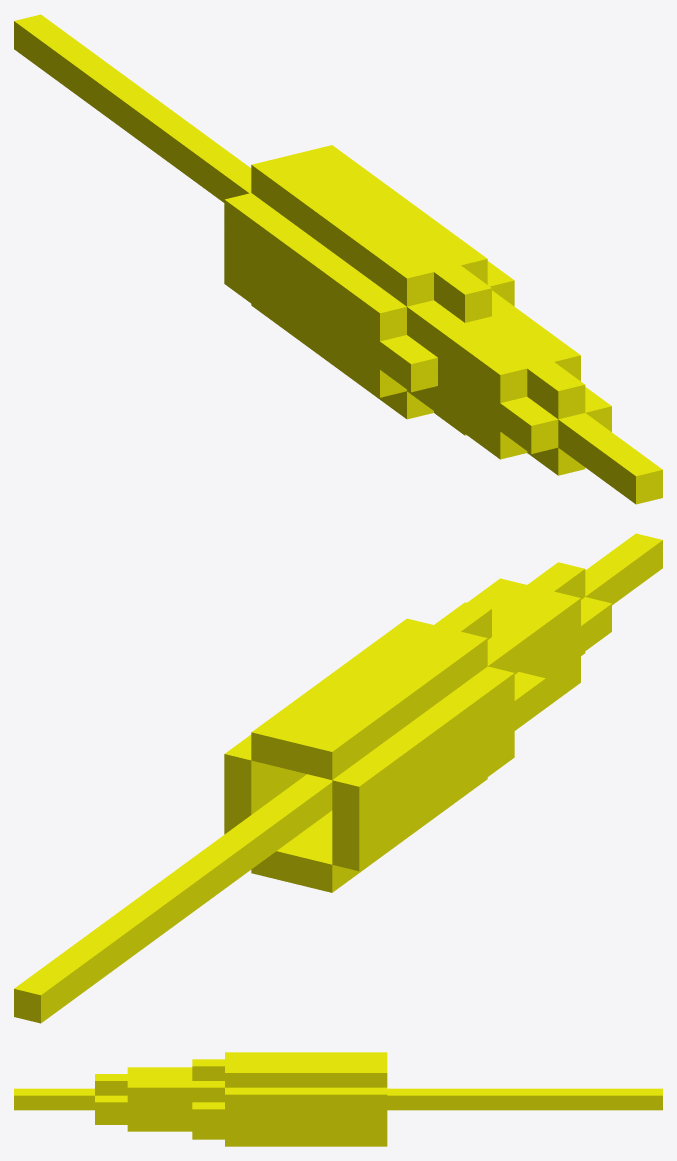
The model's file is voxel-knights-lance.glb.
3 renders of one model, top to bottom at view 1: azimuth 30°, elevation 25°; view 2: azimuth 150°, elevation 25°; view 3: azimuth 270°, elevation 25°, orthographic. The views are drawn at different scales.
Visible parts, largest first — view 1: VS_Knights_Props_Lance_001; view 2: VS_Knights_Props_Lance_001; view 3: VS_Knights_Props_Lance_001.
Boxes of the visible parts, left/top/right/bottom form: VS_Knights_Props_Lance_001: left=14, top=14, right=662, bottom=504; VS_Knights_Props_Lance_001: left=14, top=533, right=662, bottom=1023; VS_Knights_Props_Lance_001: left=14, top=1052, right=662, bottom=1146.
Size of the model in its own units: 0.5 by 0.5 by 4.
